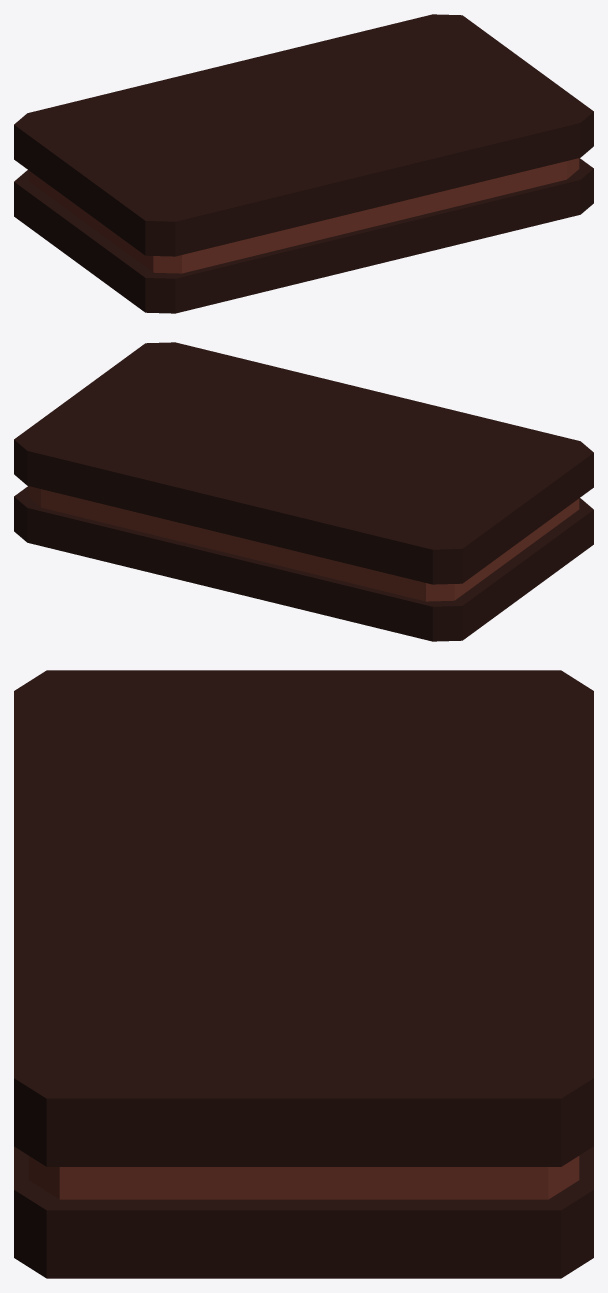
The model's file is bourbons.fbx.
The picture shows the model from 3 angles, top to bottom: view 1: azimuth 30°, elevation 25°; view 2: azimuth 150°, elevation 25°; view 3: azimuth 270°, elevation 25°; orthographic projection. The views are drawn at different scales.
Visible parts, largest first — view 1: bourbon; view 2: bourbon; view 3: bourbon.
Boxes of the visible parts, left/top/right/bottom form: bourbon: left=14, top=14, right=593, bottom=313; bourbon: left=14, top=342, right=593, bottom=641; bourbon: left=14, top=670, right=593, bottom=1278.
Bounding box in the file's own units: 73.2 × 14.33 × 41.89.
